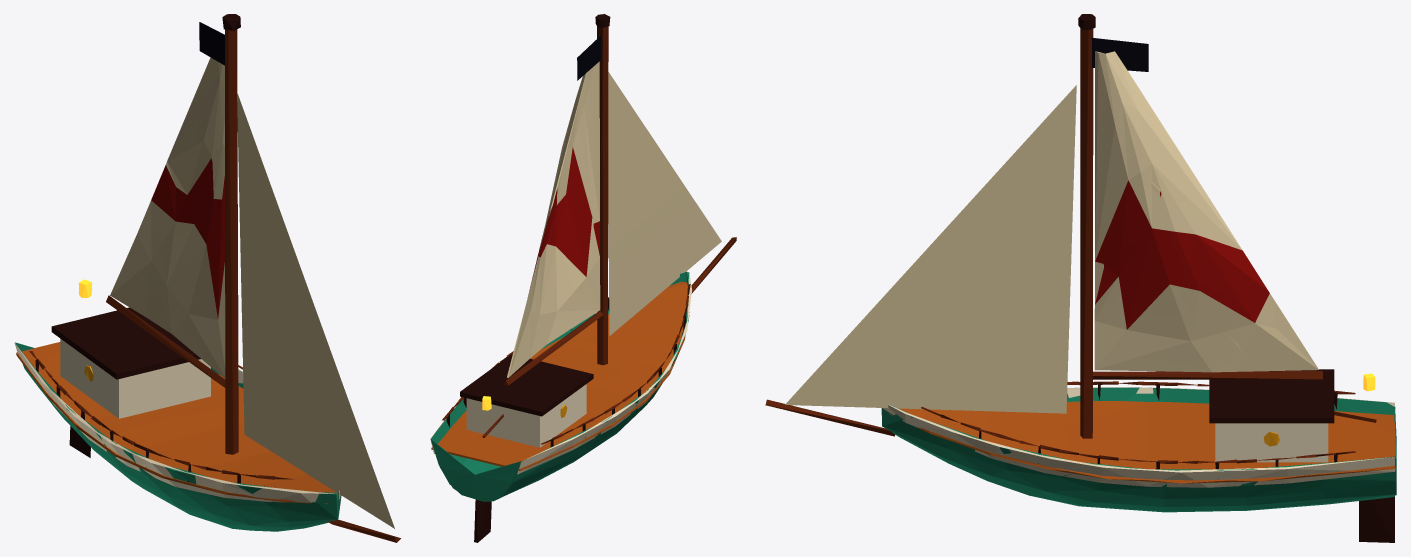
File: tidebreakers_coastal_sloop.three-web-toon.lod25.glb
3 views of the same model, side by side, from view 1: azimuth 30°, elevation 25°; view 2: azimuth 150°, elevation 25°; view 3: azimuth 270°, elevation 25° (orthographic). The views are drawn at different scales.
Parts seen in each view (by area): view 1: tidebreakers_coastal_sloop_mesh_lod; view 2: tidebreakers_coastal_sloop_mesh_lod; view 3: tidebreakers_coastal_sloop_mesh_lod.
Boxes of the visible parts, x1,y1,x2,y2 form: tidebreakers_coastal_sloop_mesh_lod: [14, 14, 400, 542]; tidebreakers_coastal_sloop_mesh_lod: [430, 14, 736, 542]; tidebreakers_coastal_sloop_mesh_lod: [765, 14, 1396, 542].
Bounding box in the file's own units: 3.87 × 11.28 × 12.3.
